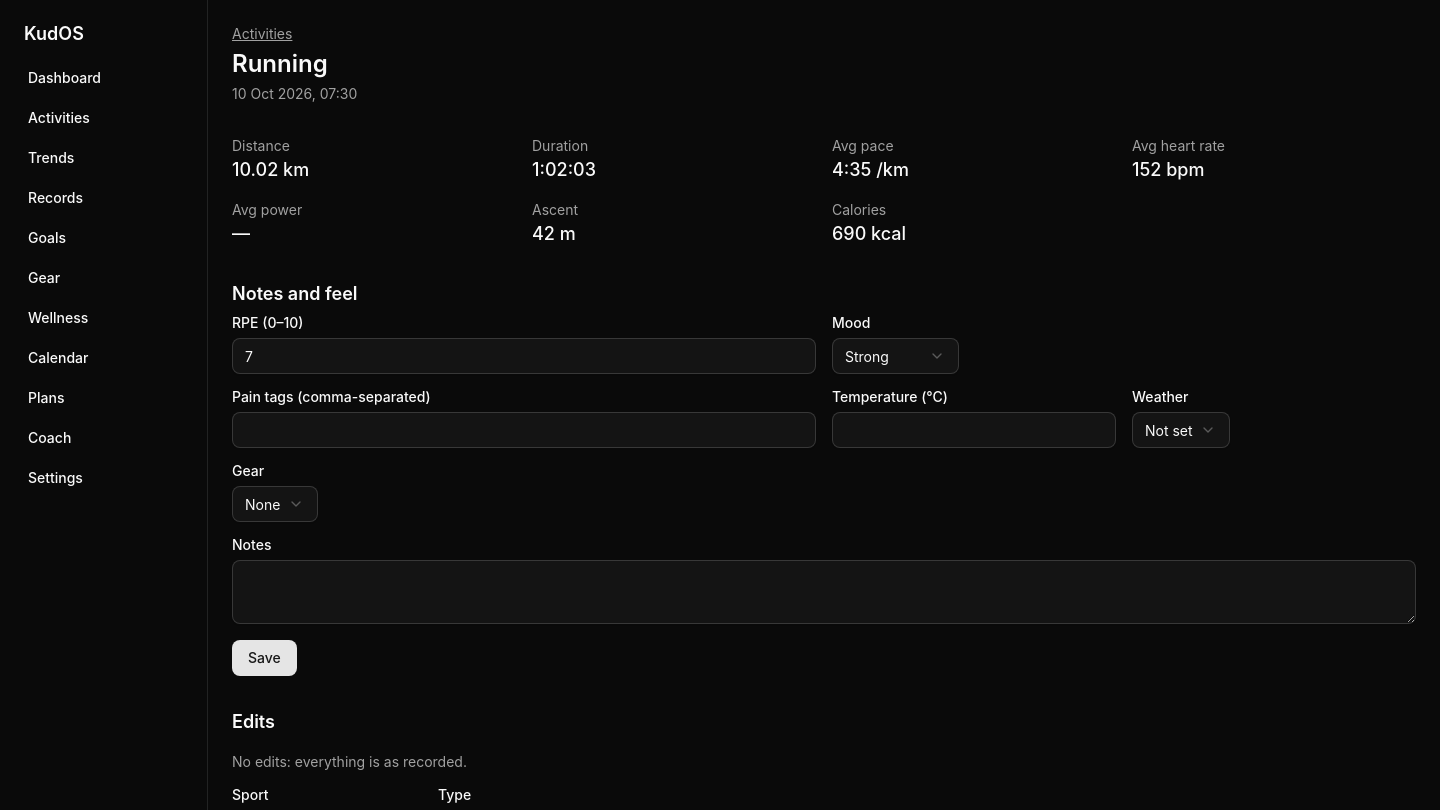
Test: ActivityDetailPage › notes and feel › pre-fills from the watch and saves edits with the CSRF token
Check: the dropdown labelled "Mood" shows "Strong", box [832,338,959,374]
Check: the dropdown labelled "Weather" shows "Not set", box [1132,412,1230,448]
Replace the text in the field labelled "RPE (0–10)" with "8,5" at [524, 356], box [232,338,816,374]
Select "Very strong" in the dropdown labelled "Mood" at [896, 356], box [832,338,959,374]
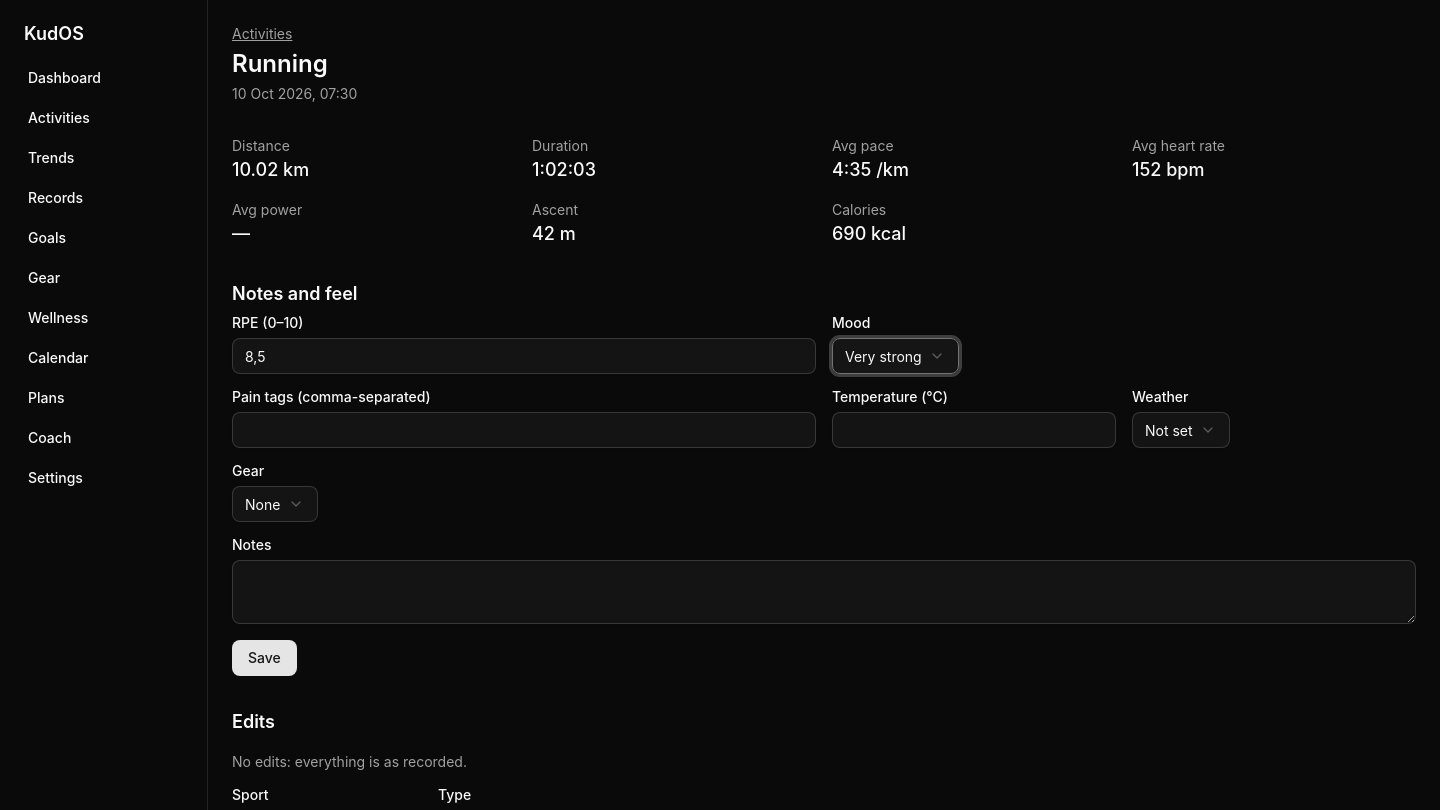
Type "Left Knee, left knee" into the field labelled "Pain tags (comma-separated)" at [524, 430], box [232,412,816,448]
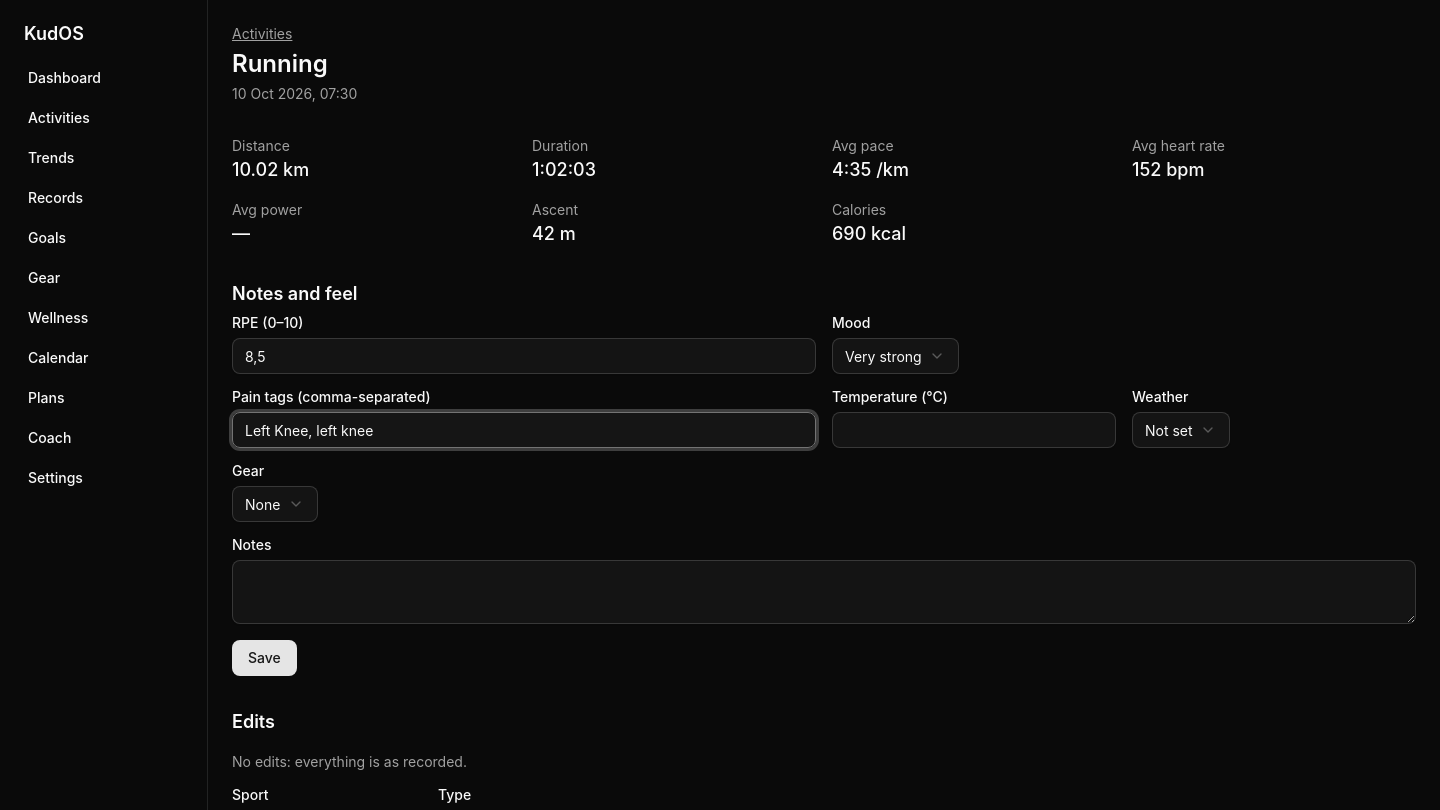
Type "-3" into the field labelled "Temperature (°C)" at [974, 430], box [832,412,1116,448]
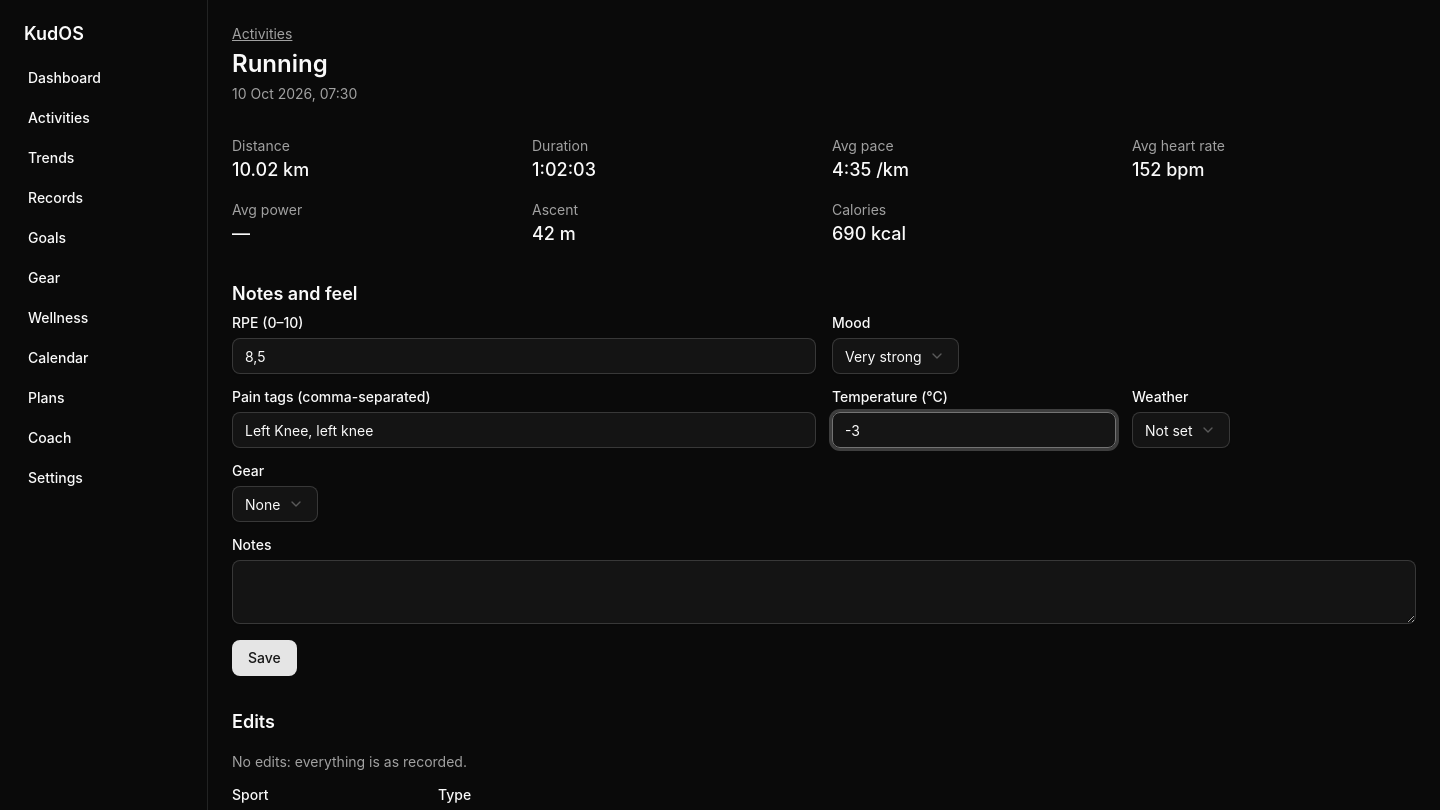
Select "Snow" in the dropdown labelled "Weather" at [1181, 430], box [1132,412,1230,448]
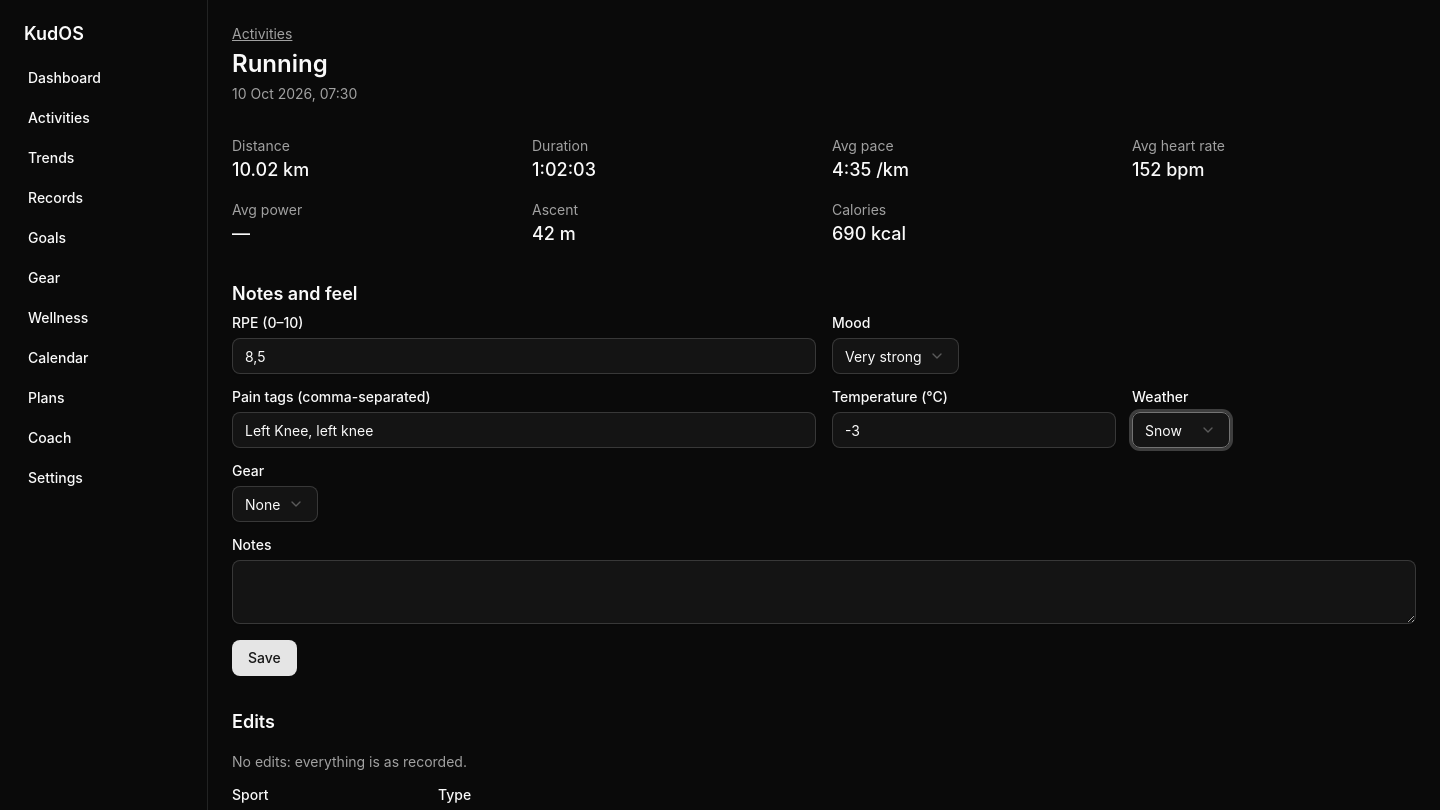
Type "Icy" into the text box labelled "Notes" at [824, 592], box [232,560,1416,624]
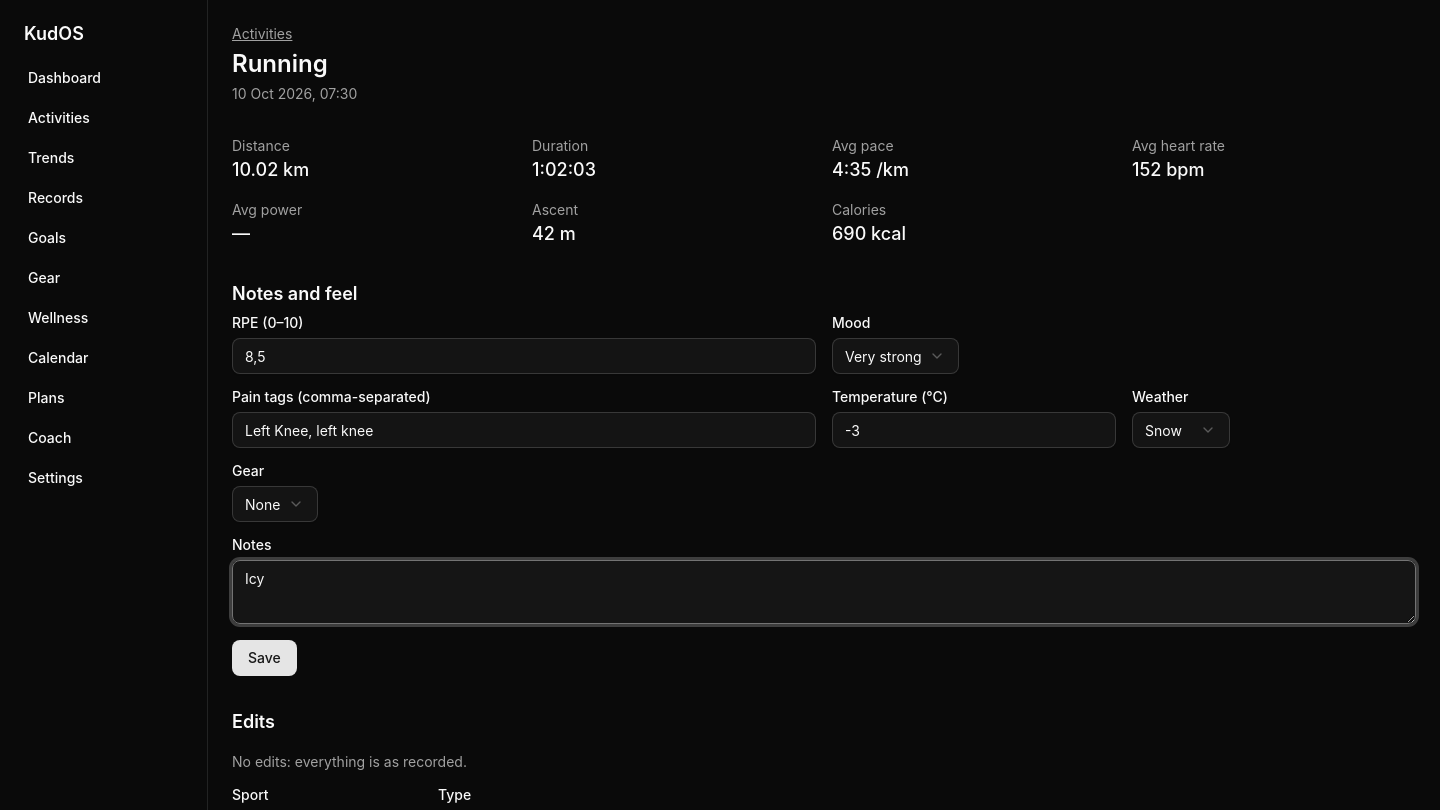
Click the button "Save" at [264, 658], box [232,640,297,676]
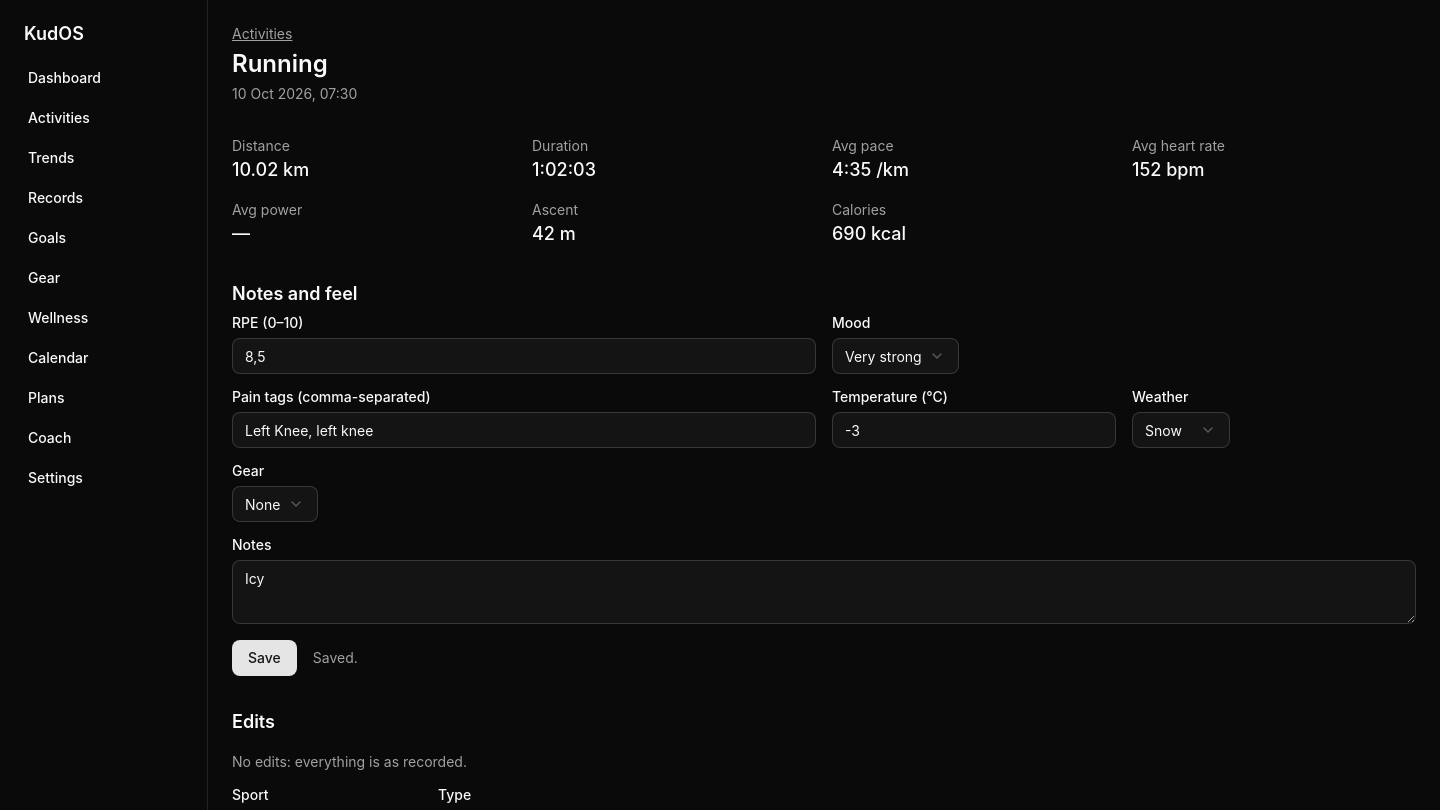
Check: the text "Saved." is shown, box [313,648,358,668]
